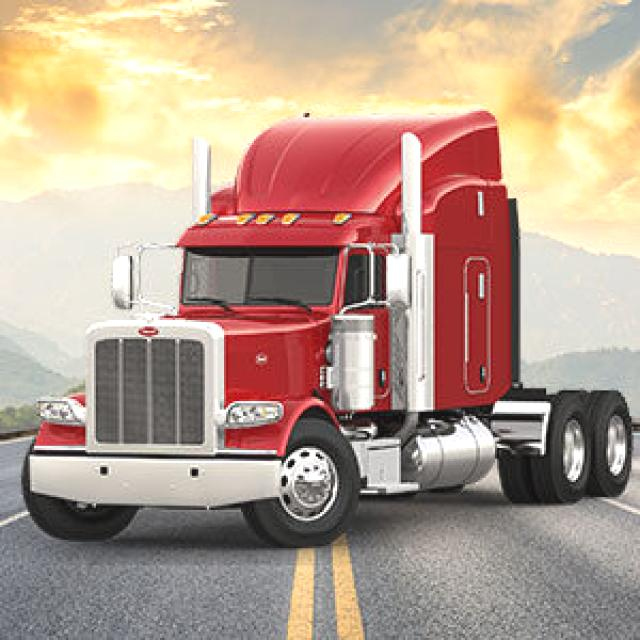TRUCK: (24, 111, 631, 546)
